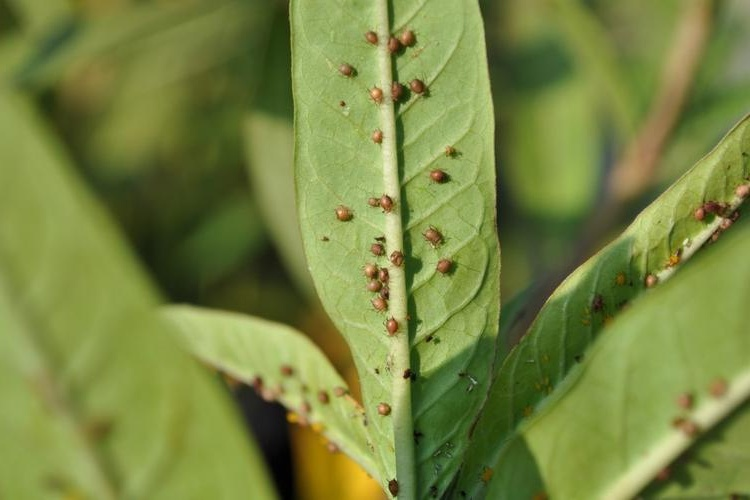Gall_Mite: (328, 21, 452, 442), (585, 182, 736, 362), (226, 365, 310, 442)
